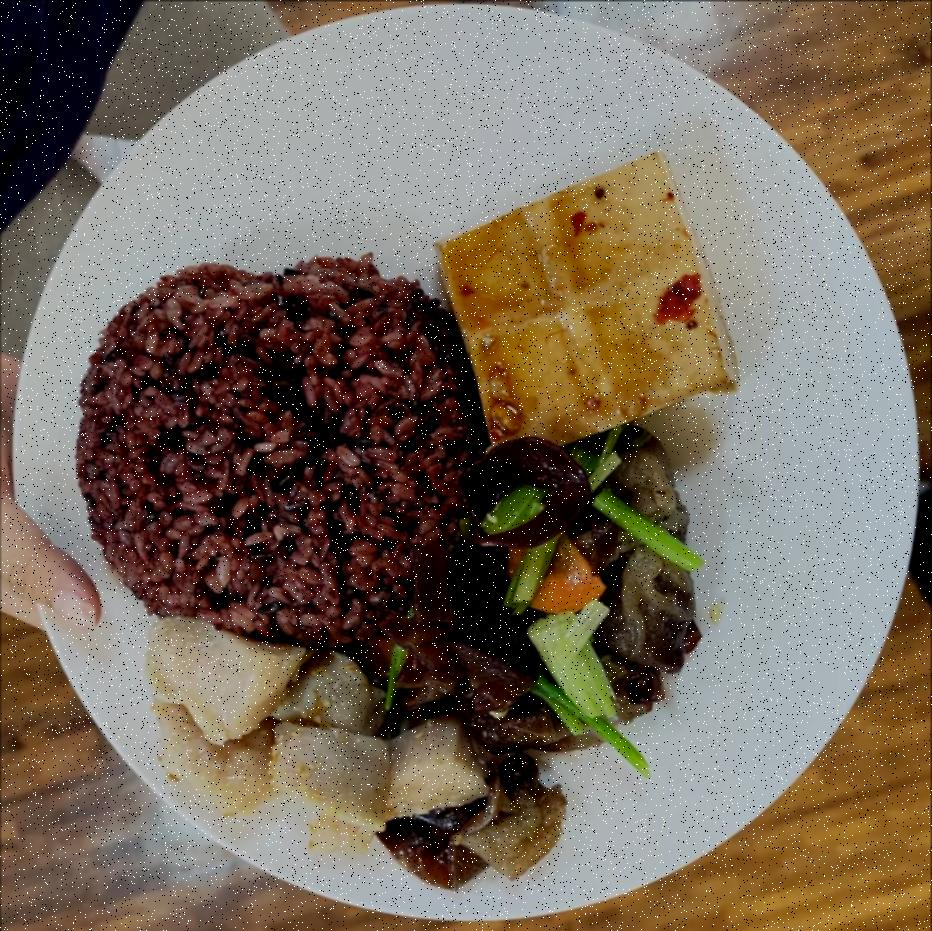big fried chicken leg: (13, 4, 920, 917)
braised fish: (70, 250, 468, 638)
braised fish fillet: (388, 423, 696, 887), (431, 151, 734, 463)
braised pork: (137, 616, 481, 848)
